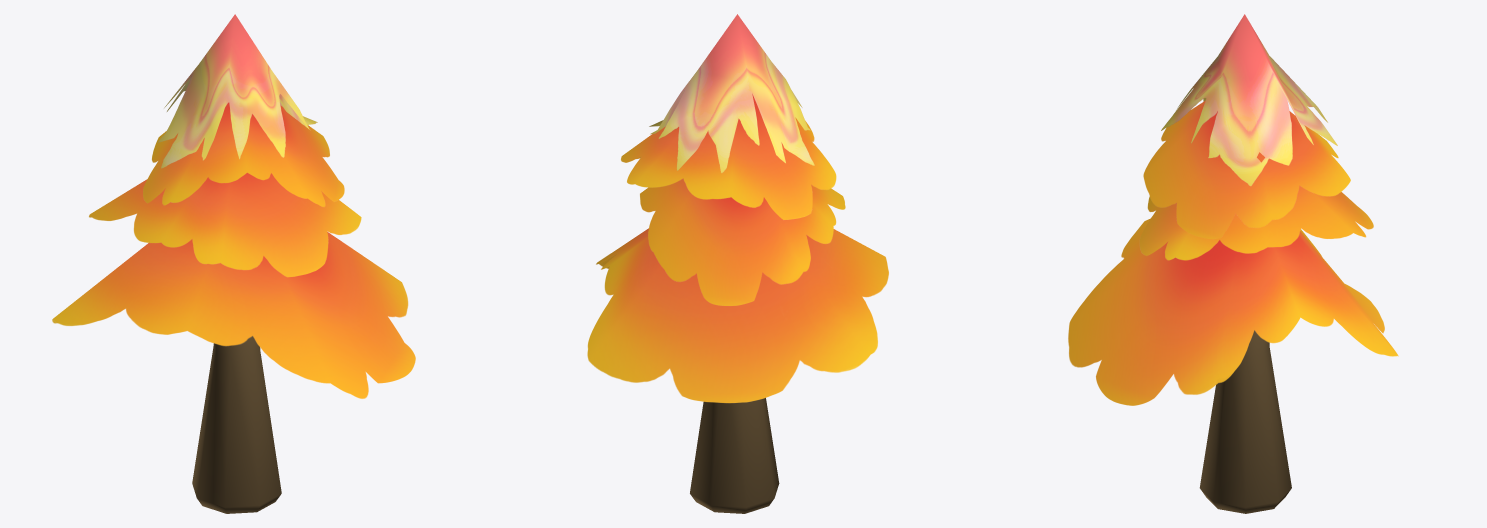
File: TreeRadiant2.glb
3 views of the same model, side by side, from view 1: azimuth 30°, elevation 25°; view 2: azimuth 150°, elevation 25°; view 3: azimuth 270°, elevation 25° (orthographic).
Parts seen in each view (by area): view 1: Cylinder.002; view 2: Cylinder.002; view 3: Cylinder.002.
Part boxes in pixels (<box>): Cylinder.002: <box>52,14,415,513</box>; Cylinder.002: <box>587,14,888,513</box>; Cylinder.002: <box>1068,14,1398,513</box>.
Size of the model in its own units: 4.65 by 5.9 by 4.88.
3 materials, 3 textured.
